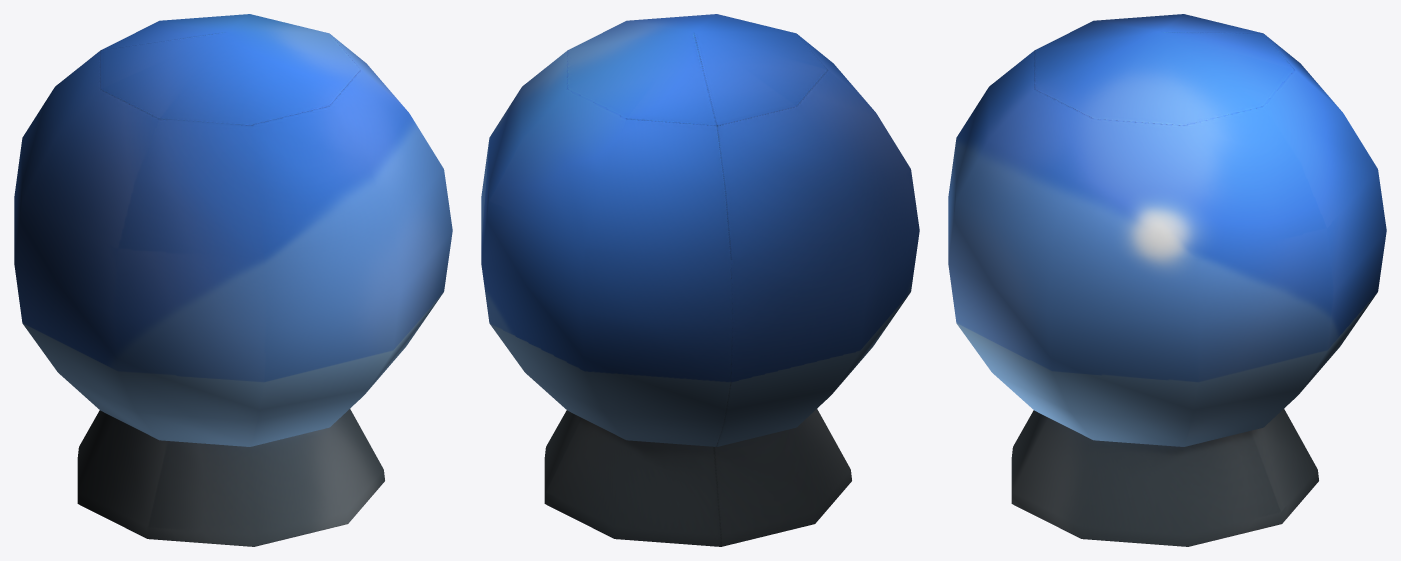
Rendered from Emoji_crystal_ball.glb.
3 views of the same model, side by side, from view 1: azimuth 30°, elevation 25°; view 2: azimuth 150°, elevation 25°; view 3: azimuth 270°, elevation 25° (orthographic).
Visible parts, largest first — view 1: Emoji; view 2: Emoji; view 3: Emoji.
Part boxes in pixels (box(x1,y1,x2,y2)): Emoji: box(14, 14, 452, 546); Emoji: box(481, 14, 919, 546); Emoji: box(948, 14, 1386, 546).
Size of the model in its own units: 0.5082 by 0.5655 by 0.5005.
1 material, 1 textured.
